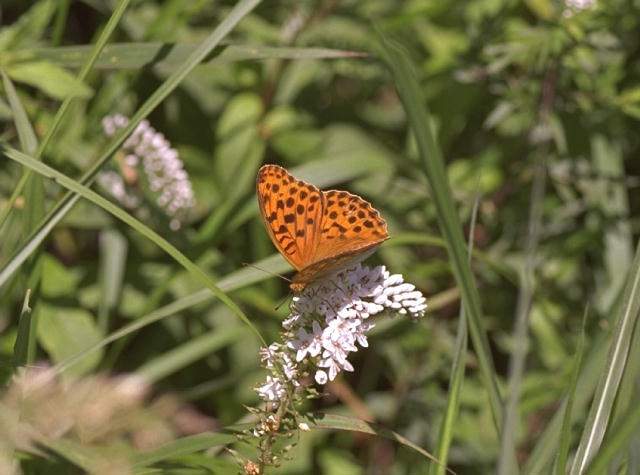Argyreus hyperbius: (239, 159, 394, 308)
butterfly: (241, 161, 396, 310)
